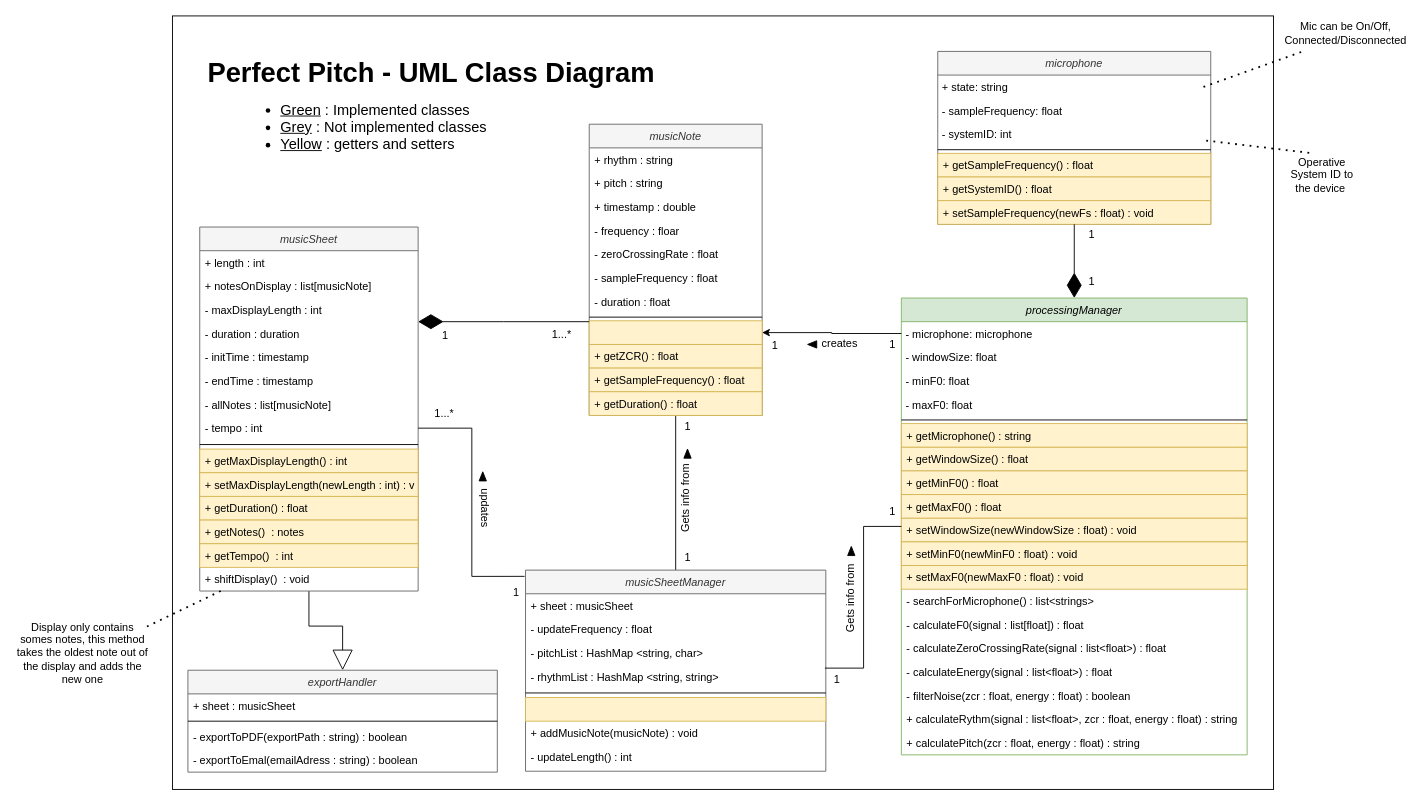
Image size: 1422x805. Some labels were removed from this diagram. Here are the shapes that lost their labels. From the top down, the centre of each, then its label:
point (675, 332): + getFrequency() : float
point (675, 709): - setUpdateFrequency(newUpdateFrequency : float) : void
